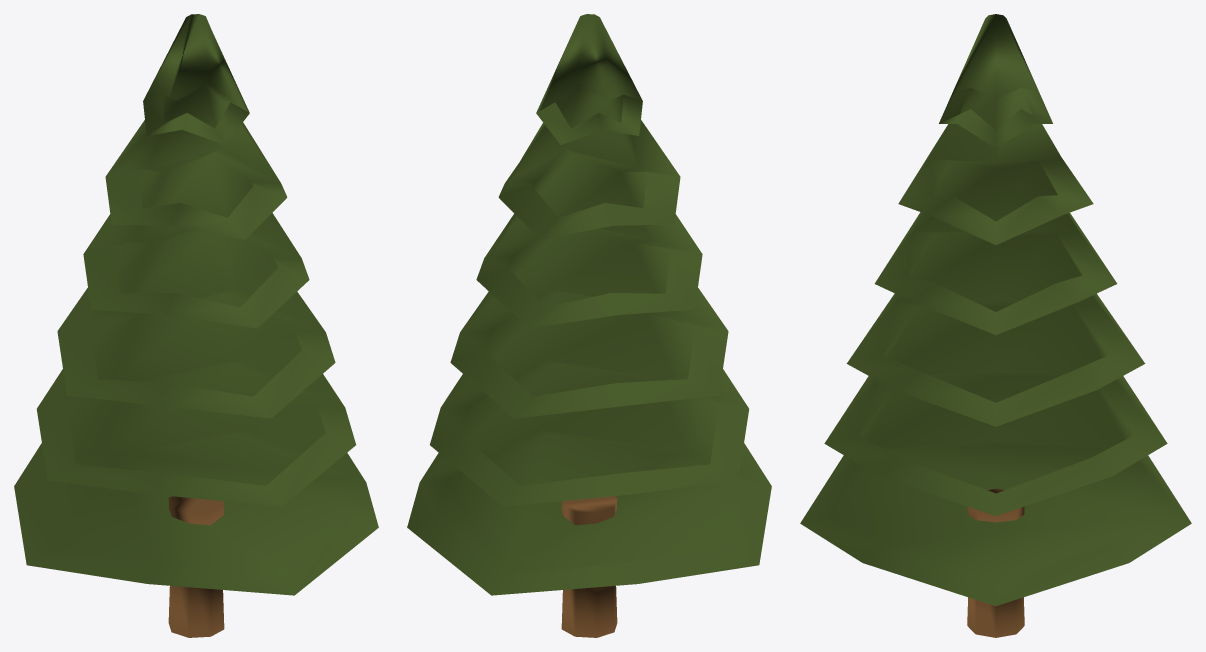
File: tree-pine-b.glb
The picture shows the model from 3 angles, left to right: view 1: azimuth 30°, elevation 25°; view 2: azimuth 150°, elevation 25°; view 3: azimuth 270°, elevation 25°; orthographic projection.
Bounding box in the file's own units: 3.71 × 6.34 × 3.71.
